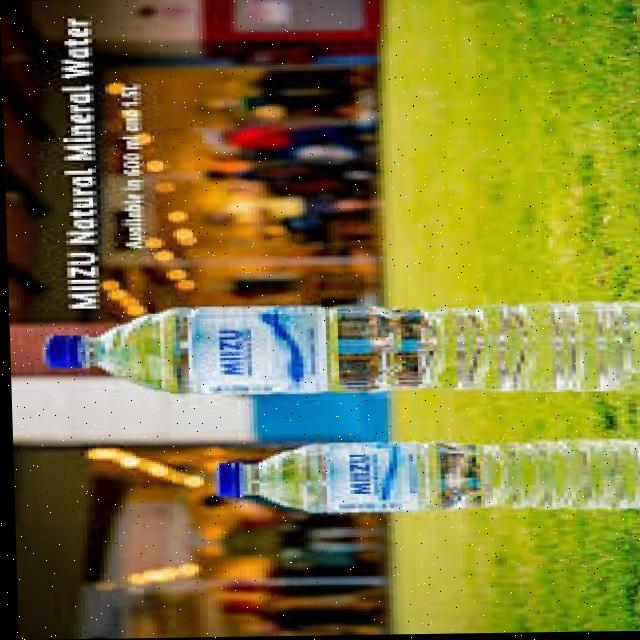bottle: (19, 287, 640, 417), (203, 403, 640, 517)
